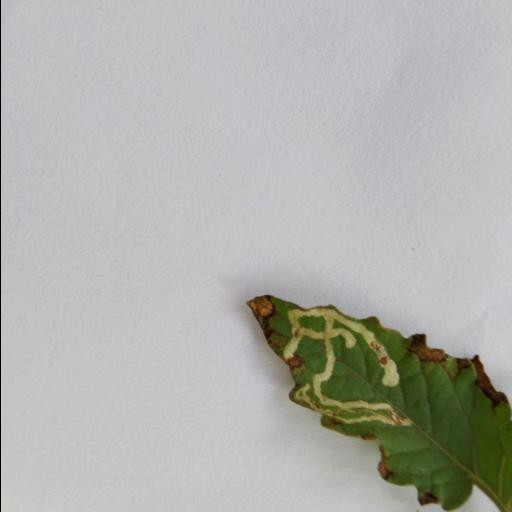Leaf Miner: (241, 292, 512, 512)
